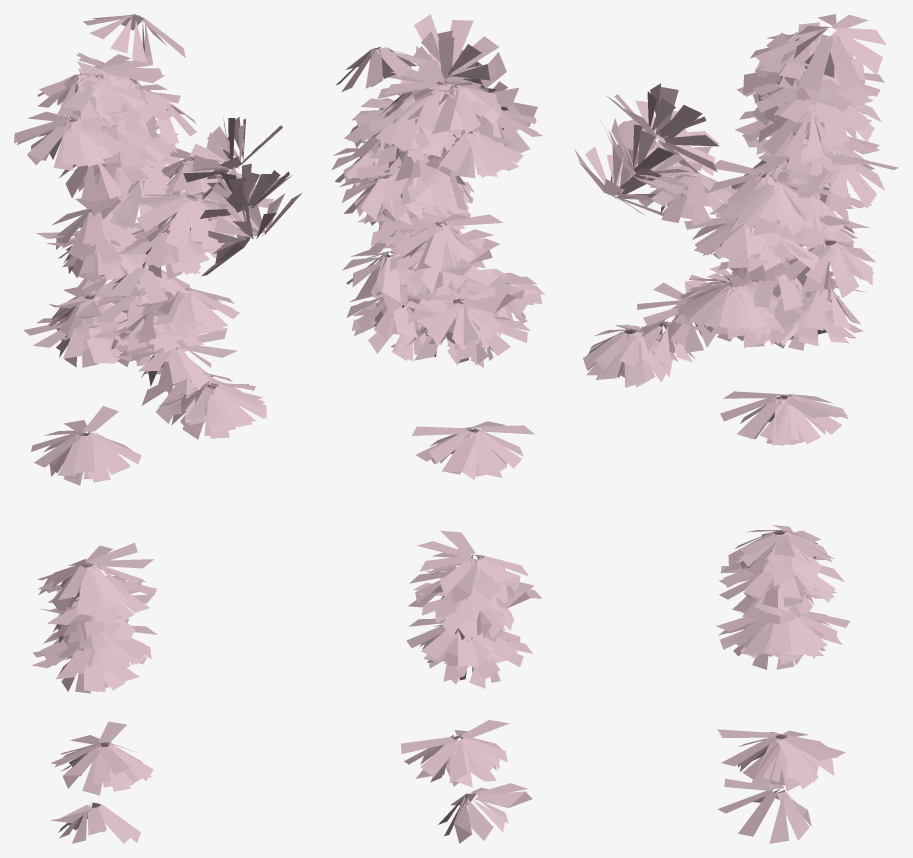
Rendered from CeilingFlower1.fbx.
3 renders of one model, left to right at view 1: azimuth 30°, elevation 25°; view 2: azimuth 150°, elevation 25°; view 3: azimuth 270°, elevation 25°, orthographic. The views are drawn at different scales.
Visible parts, largest first — view 1: greenBudVine12Flower1; view 2: greenBudVine12Flower1; view 3: greenBudVine12Flower1.
Boxes of the visible parts, box(x1,y1,x2,y2) form: greenBudVine12Flower1: box(14, 14, 302, 843); greenBudVine12Flower1: box(331, 14, 544, 843); greenBudVine12Flower1: box(574, 14, 898, 843).
Bounding box in the file's own units: 1.62 × 6.08 × 2.14.
